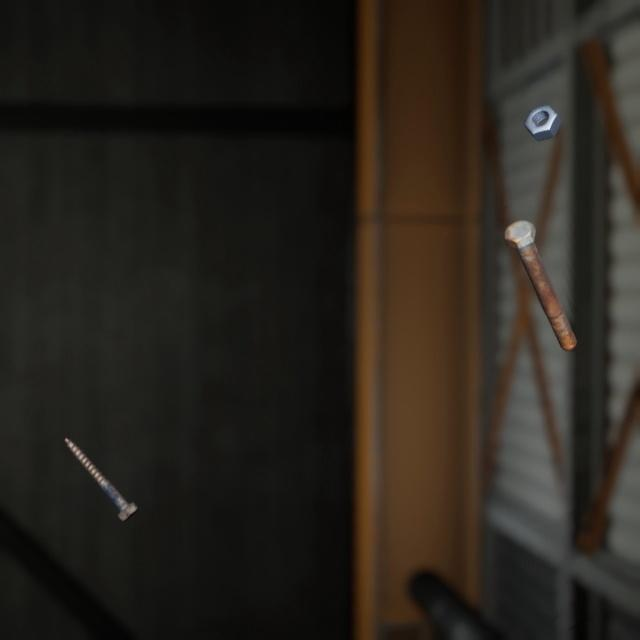bolt: (500, 198, 581, 339), (60, 412, 143, 505)
nut: (519, 87, 566, 133)
